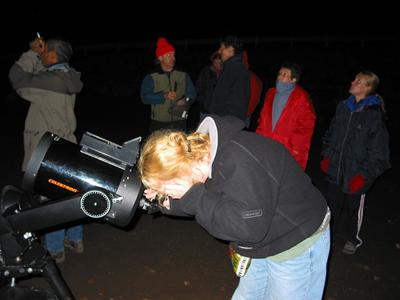person: (139, 116, 330, 299)
